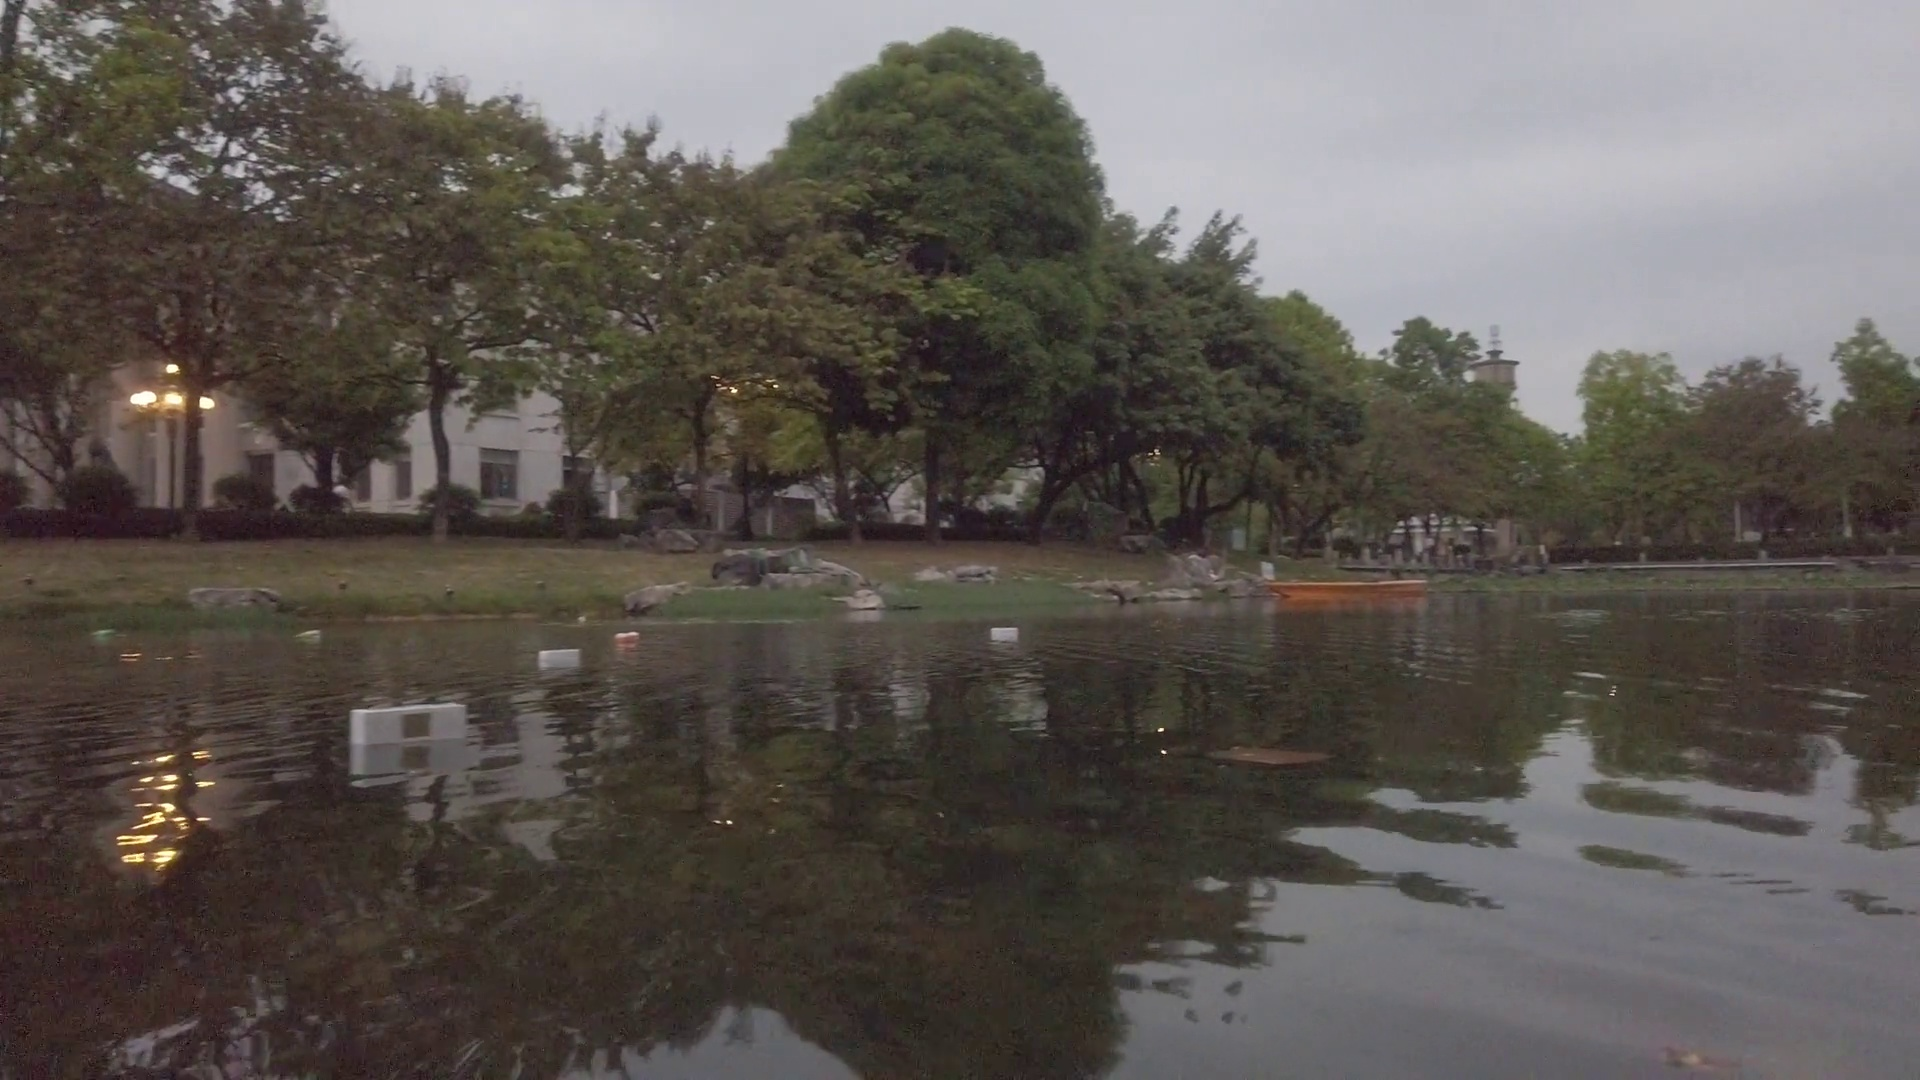bottle: (615, 629, 640, 645), (291, 626, 320, 640), (94, 626, 115, 640)
carton: (345, 707, 471, 744), (535, 647, 582, 665), (992, 626, 1019, 641)
paper: (1201, 735, 1333, 767)
